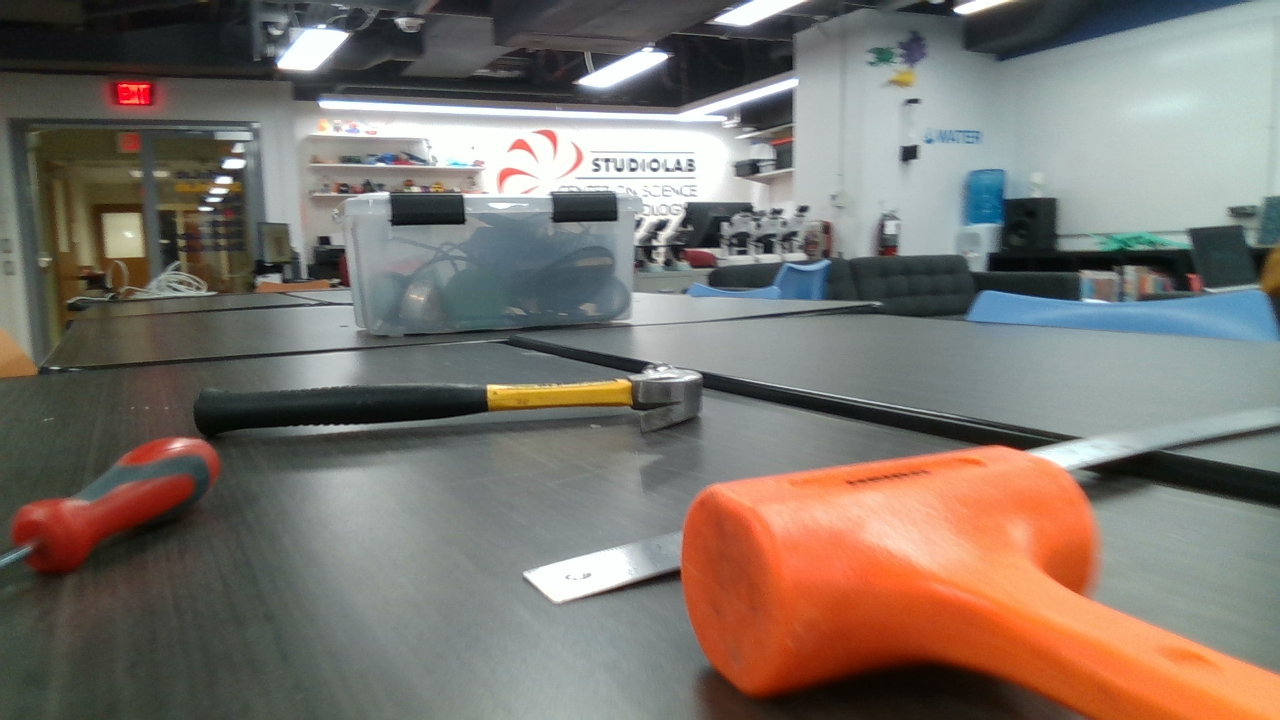Orange Hammer: (677, 446, 1276, 719)
